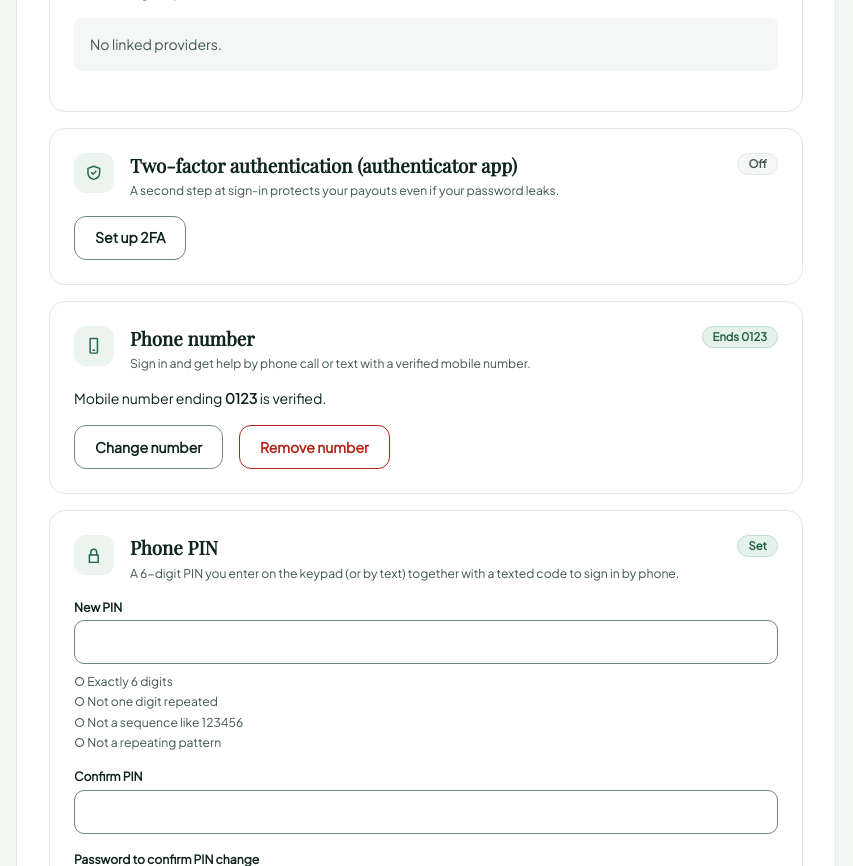
Settings → Security: phone number card › removes the number with step-up
(page scrolled)
Click the button "Remove number": click(314, 447) [239,425,390,469]
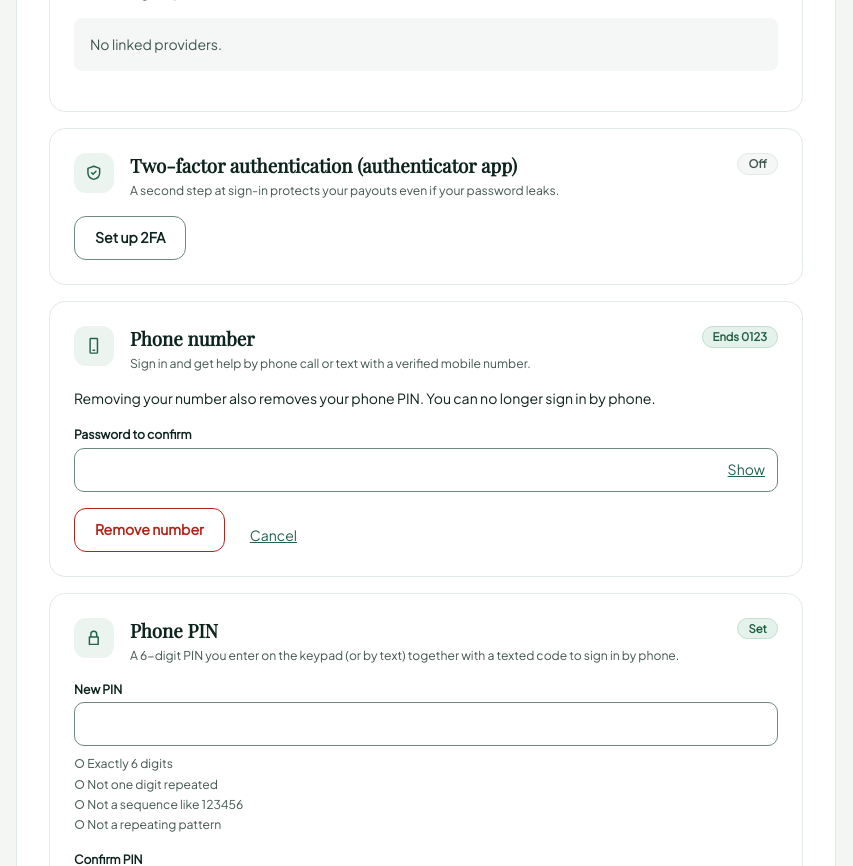
Now the text "also removes your phone PIN" is shown, box [74,389,656,407]
In the password field labelled "Password to confirm": (426, 470) [74,448,778,492], type "Tr1cky-Horse-Battery!"
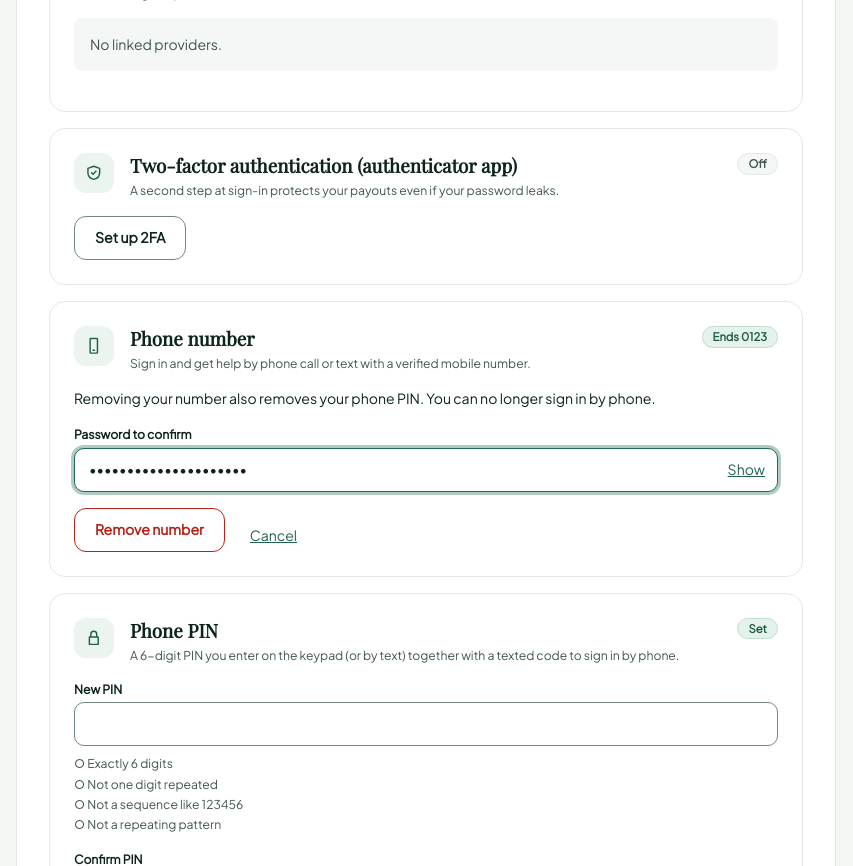
Click the button "Remove number": click(149, 530) [74,508,225,552]
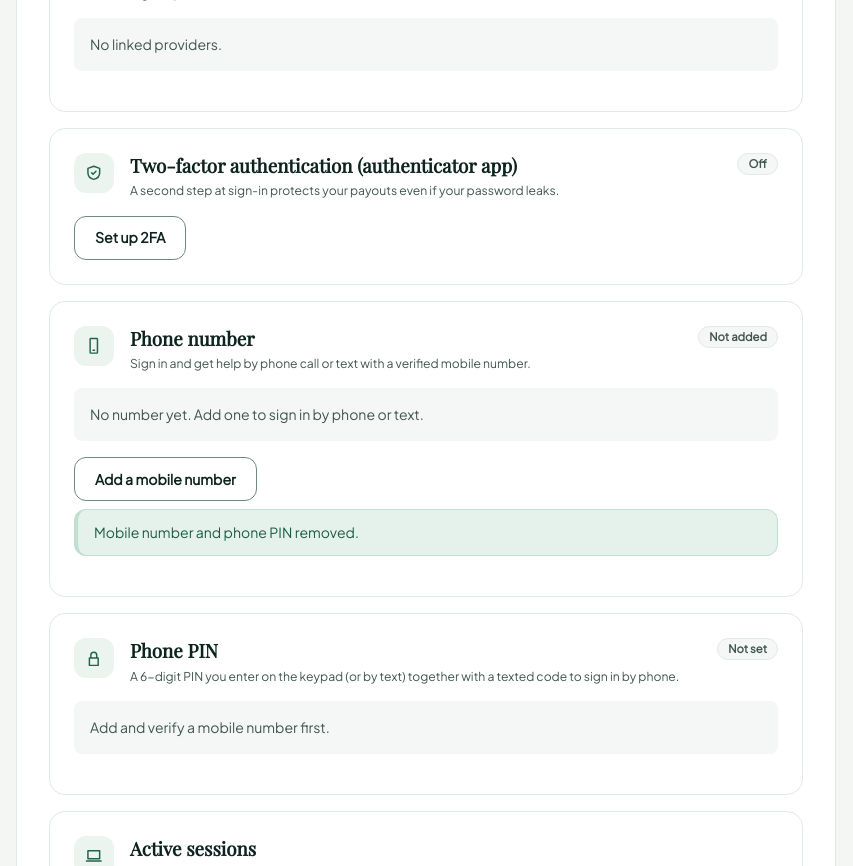
Now the text "Mobile number and phone PIN removed." is shown, box [74,509,778,556]
Now the text "Not added" is shown, box [698,326,778,348]
